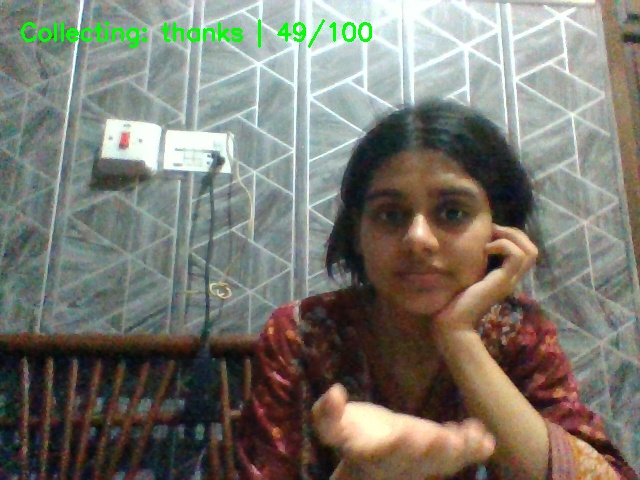thanks: (306, 374, 534, 480)
